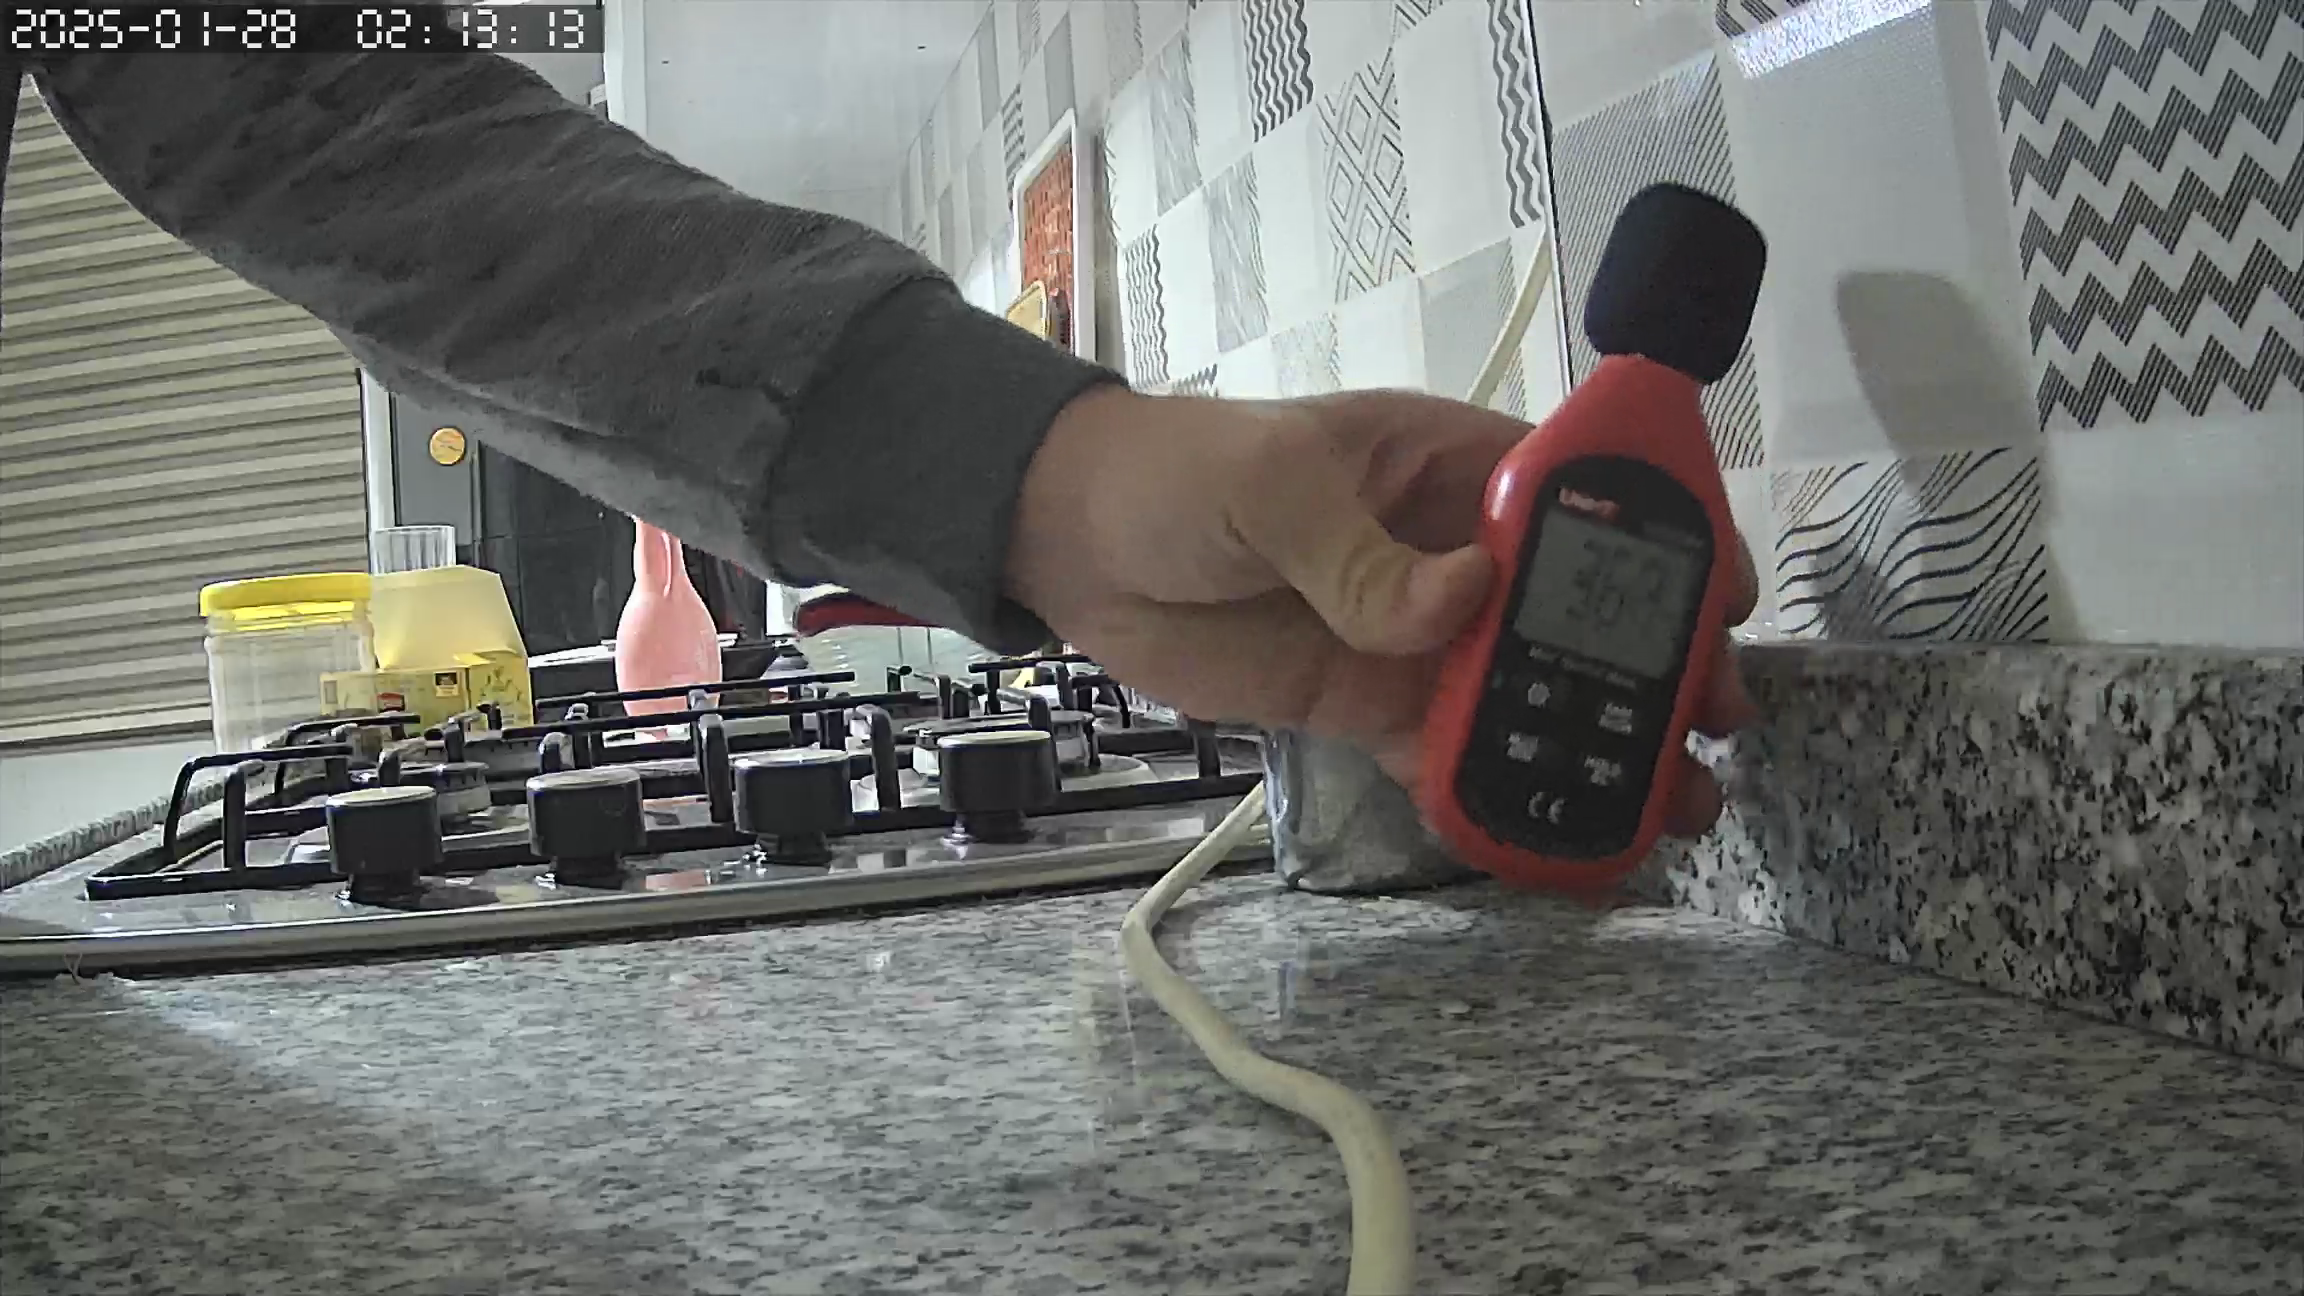screen: (1513, 511, 1693, 679)
